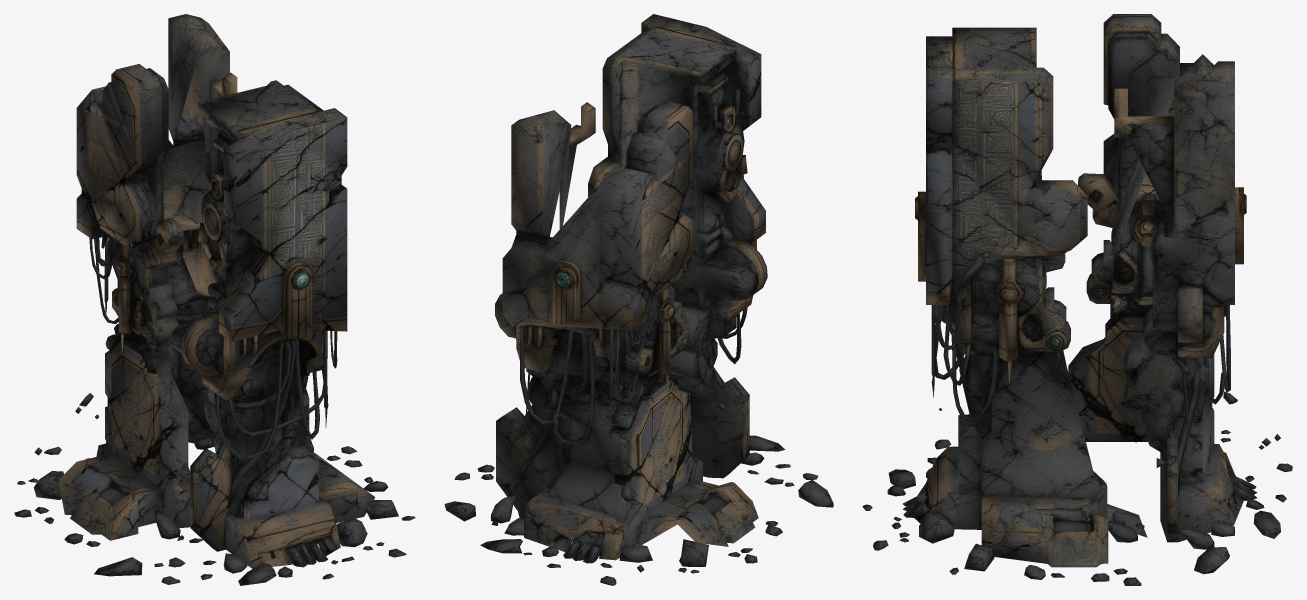
File: 019e3774-b162-7fb1-af47-0dad4e09cc4d.glb
The picture shows the model from 3 angles, left to right: view 1: azimuth 30°, elevation 25°; view 2: azimuth 150°, elevation 25°; view 3: azimuth 270°, elevation 25°; orthographic projection. The views are drawn at different scales.
Visible parts, largest first — view 1: tripo_node_ea1305dc-8035-47bb-aaa7-9600a198c02c; view 2: tripo_node_ea1305dc-8035-47bb-aaa7-9600a198c02c; view 3: tripo_node_ea1305dc-8035-47bb-aaa7-9600a198c02c.
Part boxes in pixels (x1,y1,x2,y2): tripo_node_ea1305dc-8035-47bb-aaa7-9600a198c02c: [14, 14, 415, 585]; tripo_node_ea1305dc-8035-47bb-aaa7-9600a198c02c: [444, 14, 833, 585]; tripo_node_ea1305dc-8035-47bb-aaa7-9600a198c02c: [862, 14, 1292, 585].
Size of the model in its own units: 0.7871 by 0.998 by 0.8574.
1 material, 1 textured.
